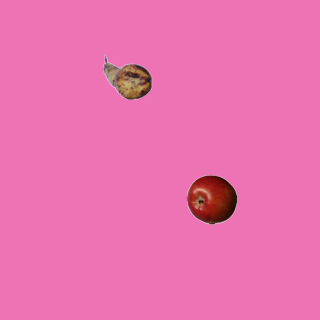Apple Braeburn: (186, 174, 236, 224)
Pear Abate: (102, 52, 152, 102)
